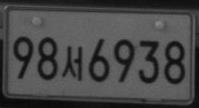3: (137, 40, 159, 83)
6: (87, 37, 110, 83)
8: (163, 39, 186, 85), (36, 36, 58, 80)
9: (112, 38, 135, 83), (12, 35, 34, 80)
서: (61, 45, 84, 82)
